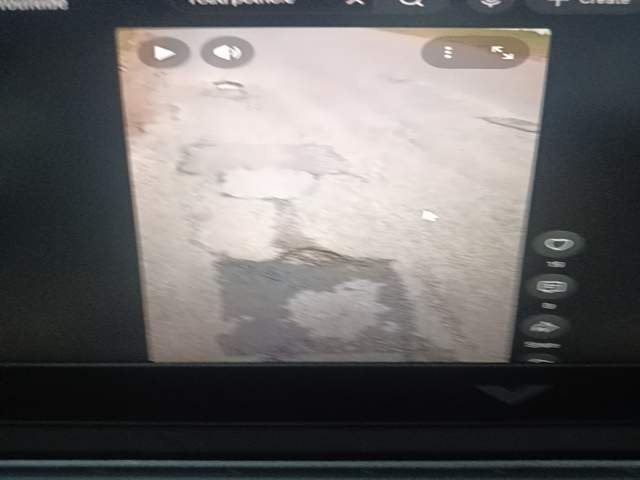pothole: (106, 404, 317, 480), (536, 403, 640, 480)
